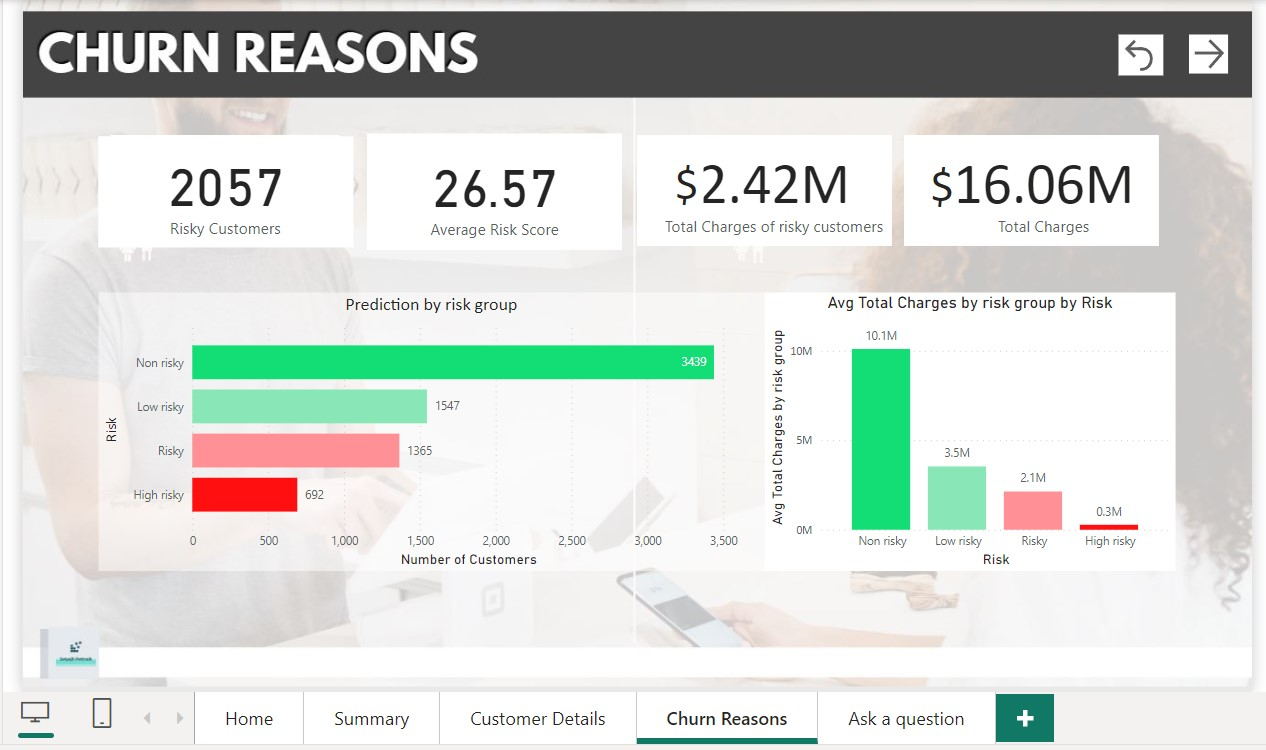

The page's visual inventory and layout, read from the dashboard file:
{"tool":"powerbi","page":{"name":"Churn Reasons","canvas":[1280,720],"ordinal":3},"visuals":[{"type":"shape","box":[79.5,142,265.1,115.5],"z":0},{"type":"clusteredBarChart","title":"Prediction by risk group","fields":{"Category":["Telco-Churn-Analysis-Predictions.Risk"],"Y":["CountNonNull(Telco-Churn-Analysis-Predictions.Risk)"]},"box":[79.5,304.9,693,289.7],"z":1000},{"type":"shape","box":[359.8,140.1,265.1,115.5],"z":2000},{"type":"shape","box":[640,140.1,265.1,115.5],"z":3000},{"type":"shape","box":[918.3,140.1,265.1,115.5],"z":4000},{"type":"card","fields":{"Values":["Sum(Telco-Churn-Analysis-Predictions.TotalCharges)"]},"box":[961.9,142,202.6,107.9],"z":5000},{"type":"card","fields":{"Values":["Sum(Telco-Churn-Analysis-Predictions.TotalCharges)"]},"box":[660.8,142,244.3,107.9],"z":6000},{"type":"card","fields":{"Values":["Avg(Telco-Churn-Analysis-Predictions.Prediction)"]},"box":[359.8,138.2,265.1,121.2],"z":7000},{"type":"card","fields":{"Values":["CountNonNull(Telco-Churn-Analysis-Predictions.Risk)"]},"box":[92.8,140.1,238.6,115.5],"z":8000},{"type":"textbox","box":[640,156.9,69,72.2],"z":9000},{"type":"textbox","box":[918.3,157.2,56.8,72],"z":10000},{"type":"clusteredColumnChart","fields":{"Category":["Telco-Churn-Analysis-Predictions.Risk"],"Y":["Sum(Telco-Churn-Analysis-Predictions.TotalCharges)"]},"box":[772.5,304.9,427.9,289.7],"z":11000},{"type":"actionButton","box":[1141.5,35.8,46.6,43],"z":12000},{"type":"actionButton","box":[1215.5,35.8,40.6,40.6],"z":13000}]}

Visuals, with their boxes on the page's 1280x720 design canvas (x1, y1, x2, y2). These are canvas units, not pixel positions in the 1266x750 screenshot, which may show the page scaled, cropped or inside an application window:
shape: <bbox>80, 142, 345, 258</bbox>
"Prediction by risk group" clusteredBarChart: <bbox>80, 305, 772, 595</bbox>
shape: <bbox>360, 140, 625, 256</bbox>
shape: <bbox>640, 140, 905, 256</bbox>
shape: <bbox>918, 140, 1183, 256</bbox>
card - Sum(Telco-Churn-Analysis-Predictions.TotalCharges): <bbox>962, 142, 1164, 250</bbox>
card - Sum(Telco-Churn-Analysis-Predictions.TotalCharges): <bbox>661, 142, 905, 250</bbox>
card - Avg(Telco-Churn-Analysis-Predictions.Prediction): <bbox>360, 138, 625, 259</bbox>
card - CountNonNull(Telco-Churn-Analysis-Predictions.Risk): <bbox>93, 140, 331, 256</bbox>
textbox: <bbox>640, 157, 709, 229</bbox>
textbox: <bbox>918, 157, 975, 229</bbox>
clusteredColumnChart - Telco-Churn-Analysis-Predictions.Risk x Sum(Telco-Churn-Analysis-Predictions.TotalCharges): <bbox>772, 305, 1200, 595</bbox>
actionButton: <bbox>1142, 36, 1188, 79</bbox>
actionButton: <bbox>1216, 36, 1256, 76</bbox>
